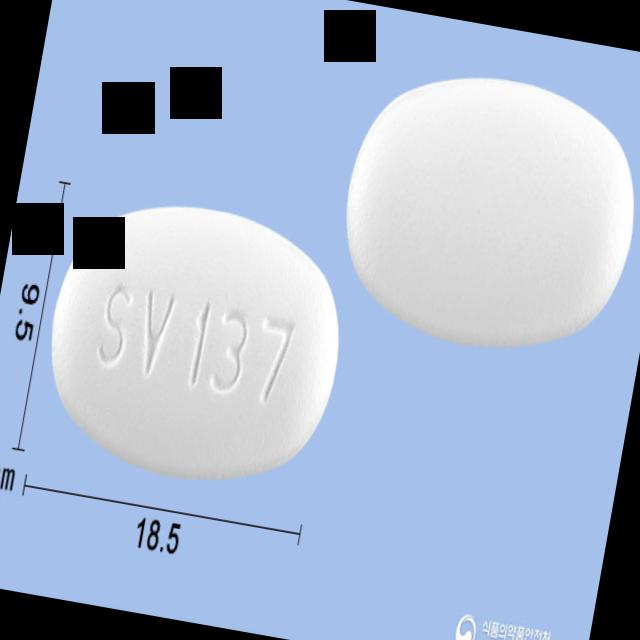Dovato: (30, 184, 360, 502)
